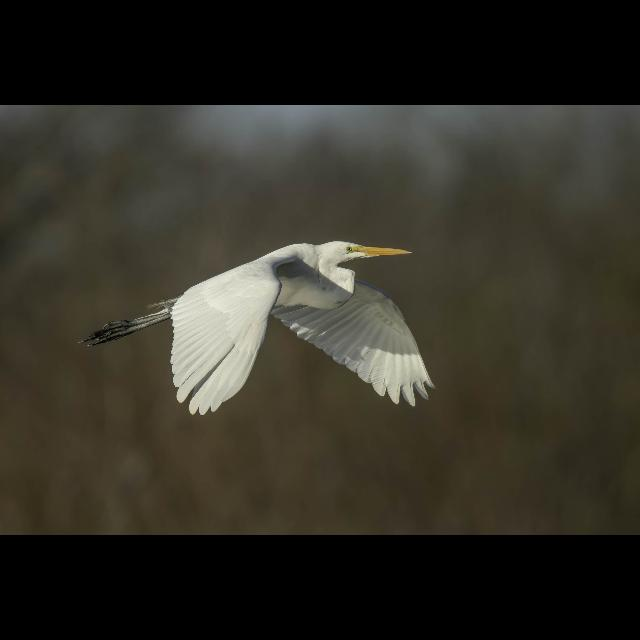egret: (73, 234, 439, 424)
